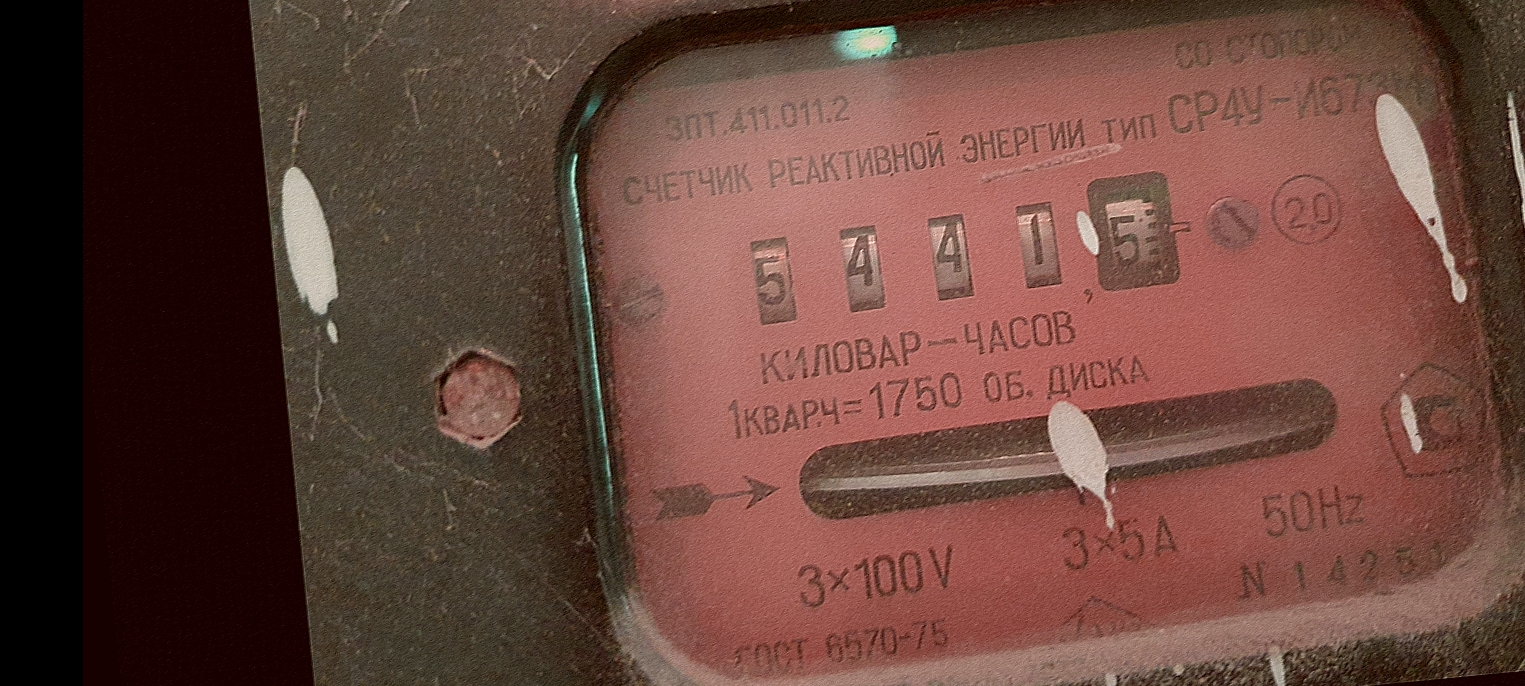1: (1021, 209, 1051, 269)
4: (927, 213, 970, 282), (839, 228, 880, 292)
5: (1105, 207, 1146, 272), (749, 250, 792, 310)
screen: (721, 145, 1207, 355)
